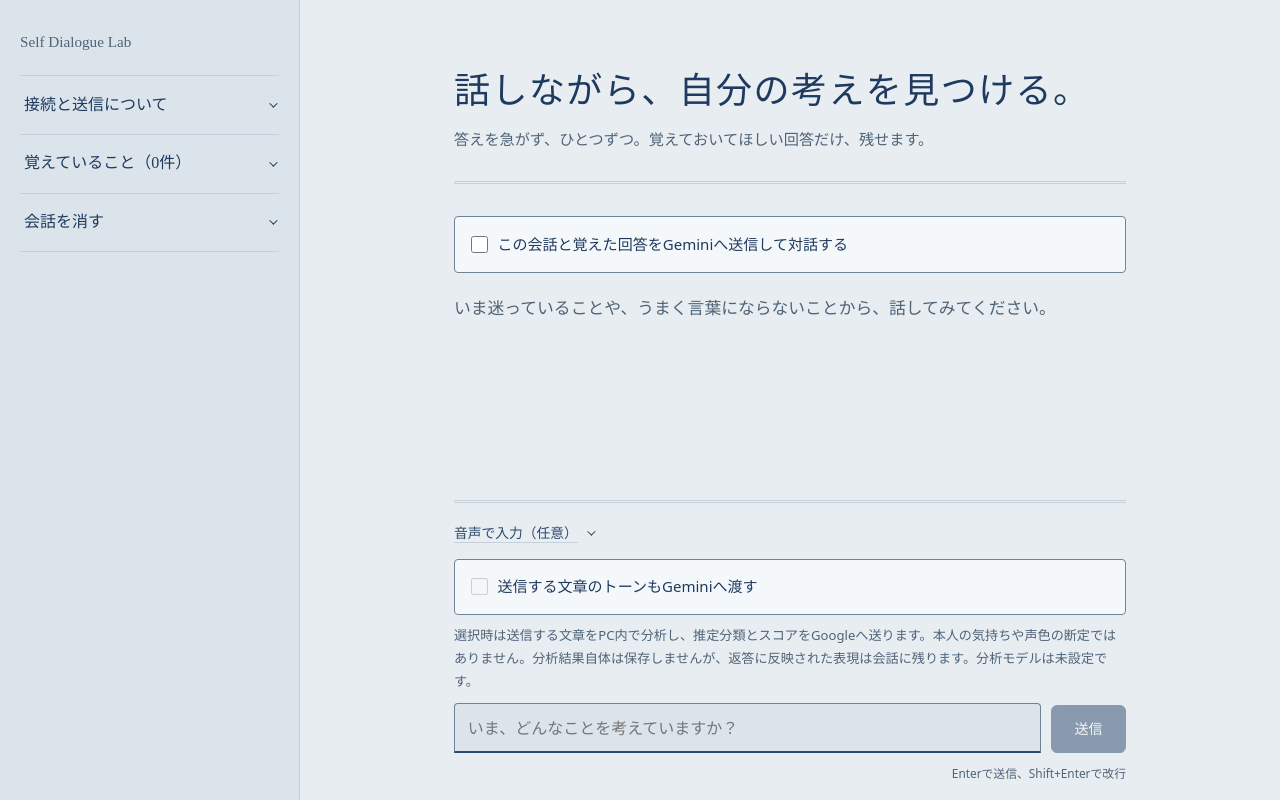
Test: product screen › requires consent before sending and keeps the text when sending fails
The width and height of the screenshot is (1280, 800).
Expected: the text "いま迷っていることや、うまく言葉にならないことから、話してみてください。" is shown, left=454, top=299, right=1056, bottom=318
Expected: the text box named "メッセージ" is disabled, left=454, top=703, right=1042, bottom=753
Click the checkbox labelled "この会話と覚えた回答をGeminiへ送信して対話する" at (479, 244), box left=471, top=236, right=488, bottom=253
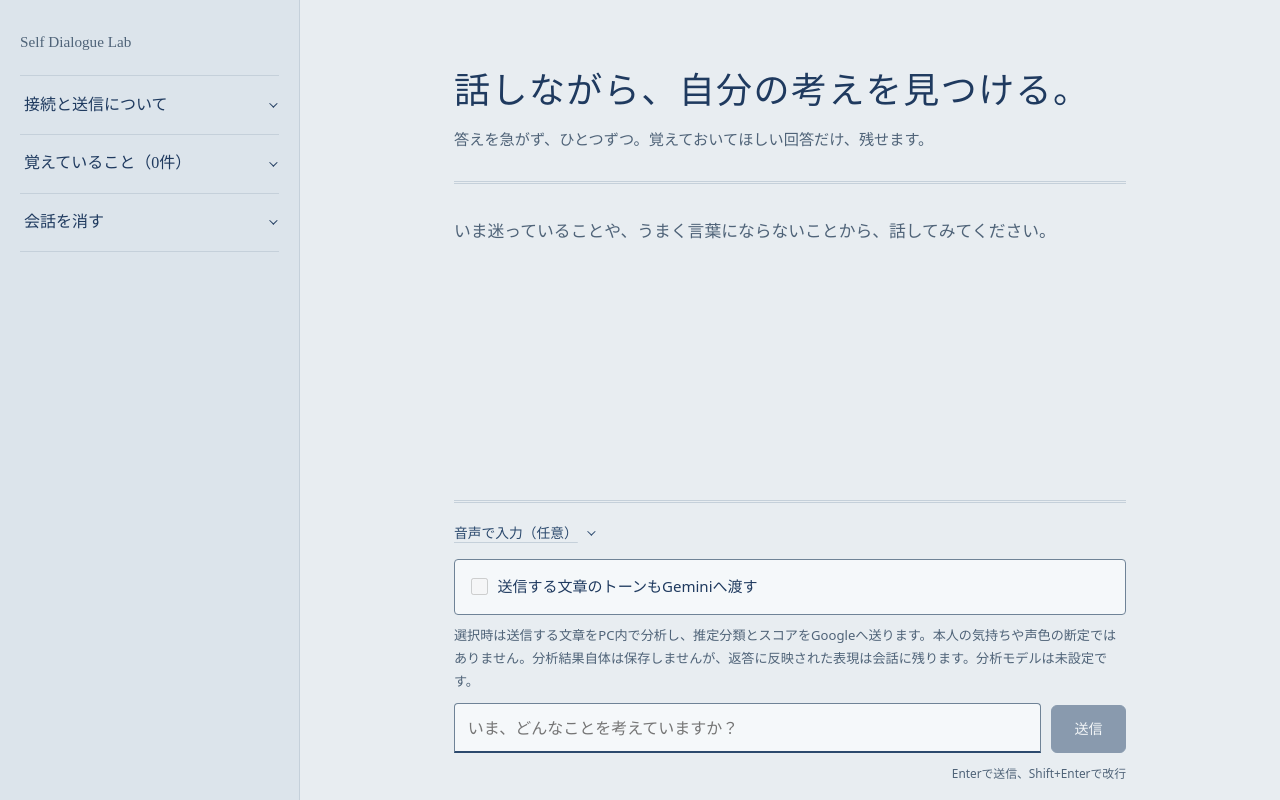
Type "転職を迷っています" into the text box named "メッセージ" at (748, 728), box left=454, top=703, right=1042, bottom=753
Then press Enter
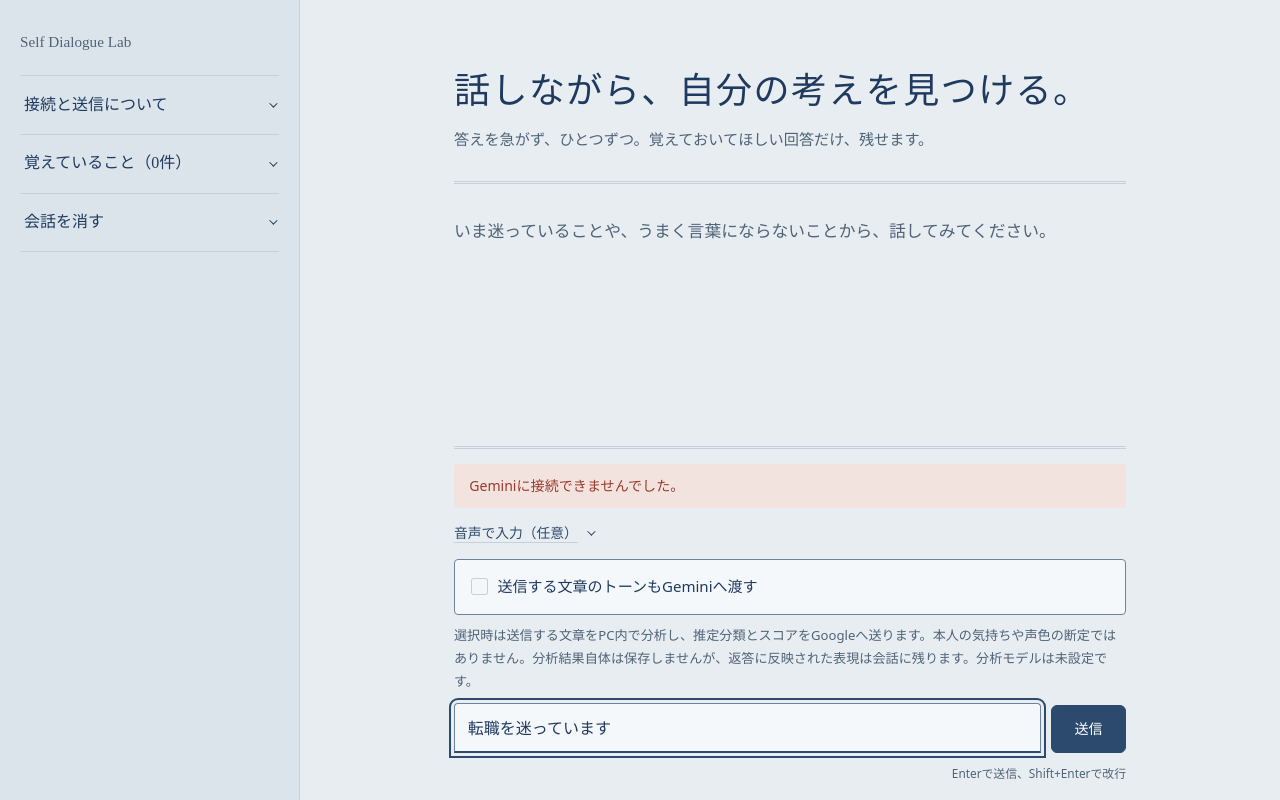
Now the message reads "Geminiに接続できませんでした。", box left=469, top=476, right=684, bottom=495
